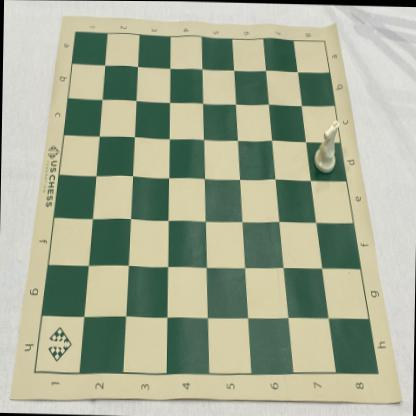white-knight: (314, 118, 340, 173)
